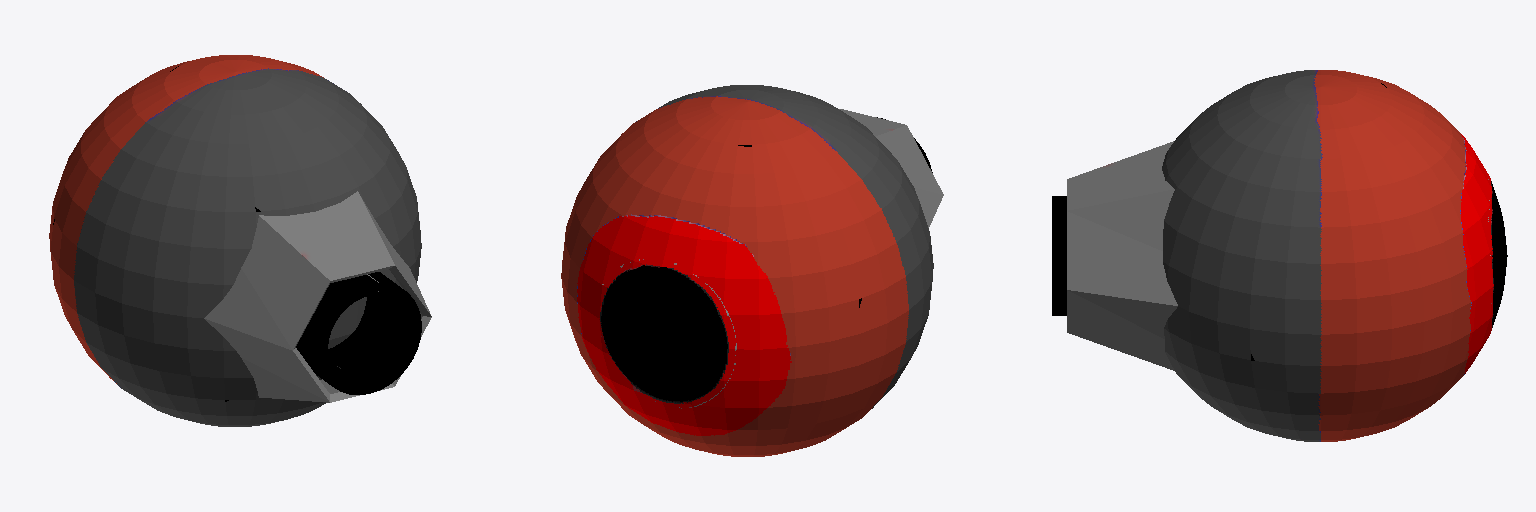
The picture shows the model from 3 angles: view 1: azimuth 30°, elevation 25°; view 2: azimuth 150°, elevation 25°; view 3: azimuth 270°, elevation 25°; orthographic projection.
Parts seen in each view (by area): view 1: 球, 立方体_立方体.001, 円柱_円柱.001; view 2: 球, 立方体_立方体.001; view 3: 球, 立方体_立方体.001, 円柱_円柱.001.
Part boxes in pixels (x1,y1,x2,y2): 球: (49, 55, 421, 426); 立方体_立方体.001: (204, 191, 431, 402); 円柱_円柱.001: (296, 272, 421, 394); 球: (561, 85, 933, 456); 立方体_立方体.001: (839, 109, 943, 227); 球: (1162, 70, 1507, 441); 立方体_立方体.001: (1067, 141, 1177, 370); 円柱_円柱.001: (1052, 196, 1066, 315).
Size of the model in its own units: 2 by 2 by 2.44.
Materials: 3 (1 with a texture image).